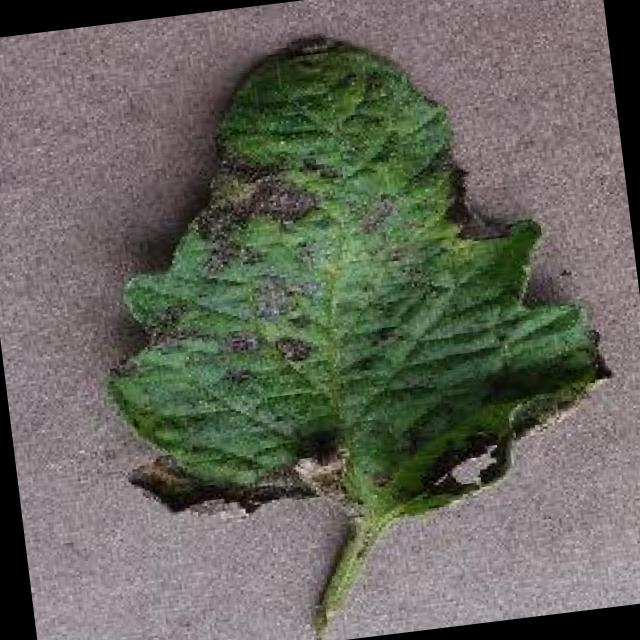Tomato_Early_Blight: (86, 110, 623, 544)
